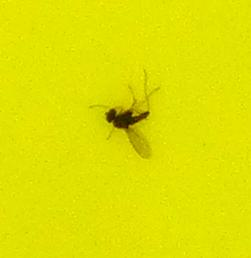Brachycera: (100, 100, 151, 158)
